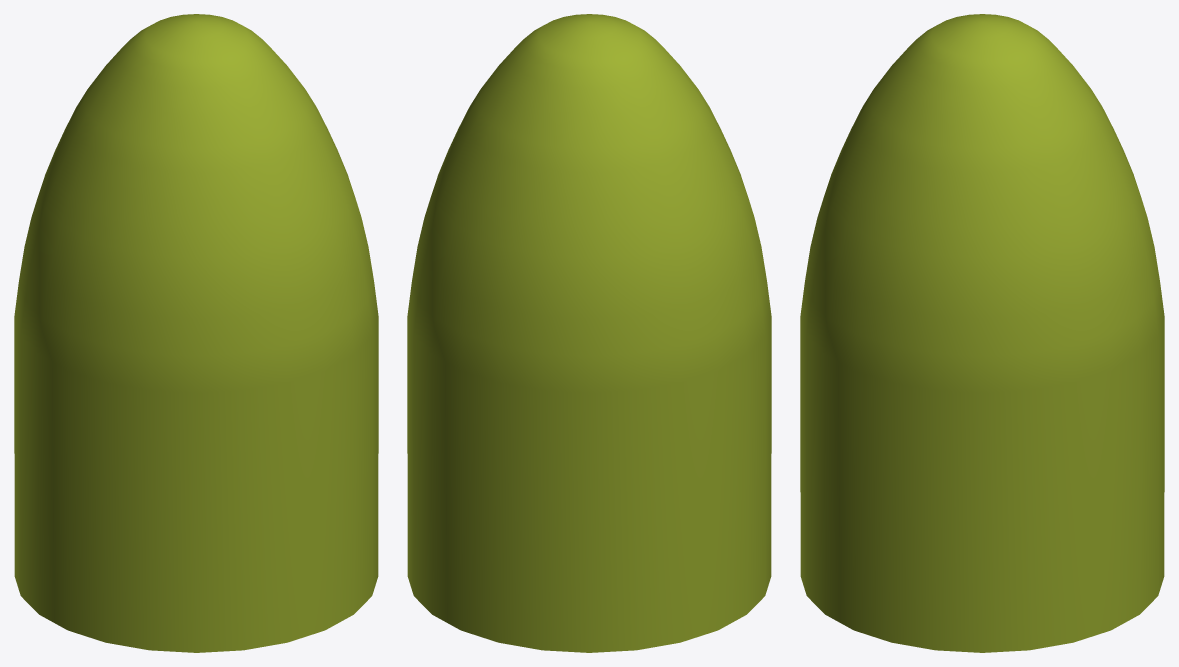
File: SassafrasAlbidum.glb
3 renders of one model, left to right at view 1: azimuth 30°, elevation 25°; view 2: azimuth 150°, elevation 25°; view 3: azimuth 270°, elevation 25°, orthographic.
Visible parts, largest first — view 1: Sassafras__Schematic_LOD3; view 2: Sassafras__Schematic_LOD3; view 3: Sassafras__Schematic_LOD3.
Boxes of the visible parts, x1=… form: Sassafras__Schematic_LOD3: x1=14, y1=14, x2=378, y2=652; Sassafras__Schematic_LOD3: x1=407, y1=14, x2=771, y2=652; Sassafras__Schematic_LOD3: x1=800, y1=14, x2=1164, y2=652.
Size of the model in its own units: 8.34 by 15.48 by 8.34.
